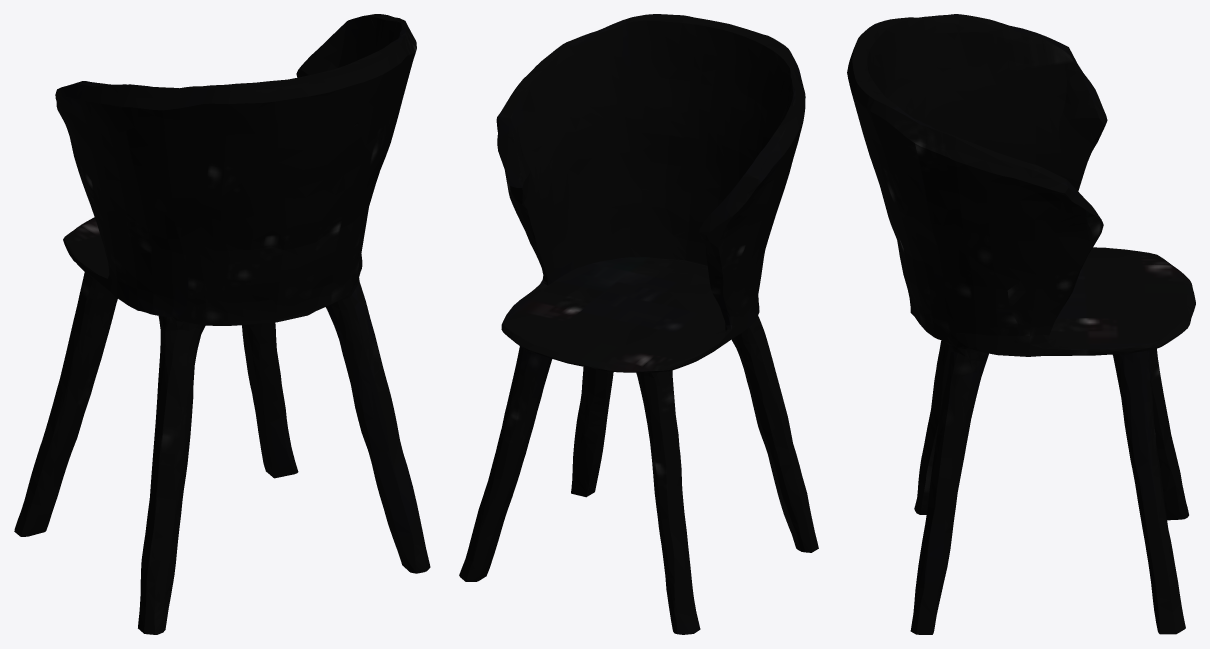
3 renders of one model, left to right at view 1: azimuth 30°, elevation 25°; view 2: azimuth 150°, elevation 25°; view 3: azimuth 270°, elevation 25°, orthographic. The views are drawn at different scales.
Visible parts, largest first — view 1: world; view 2: world; view 3: world.
Part boxes in pixels (left/top/right/bottom): world: left=14, top=14, right=430, bottom=634; world: left=459, top=14, right=818, bottom=634; world: left=847, top=14, right=1195, bottom=634.
Bounding box in the file's own units: 0.1876 × 0.3163 × 0.1956.
Materials: 1 (1 with a texture image).
